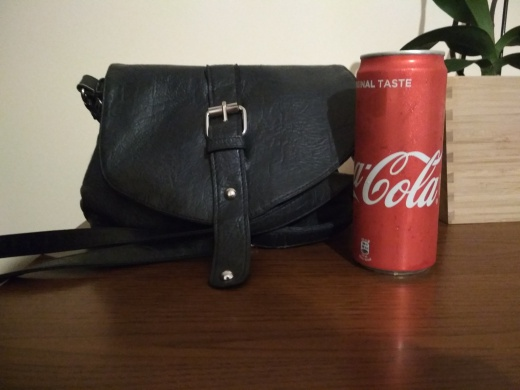cola: (341, 46, 456, 279)
